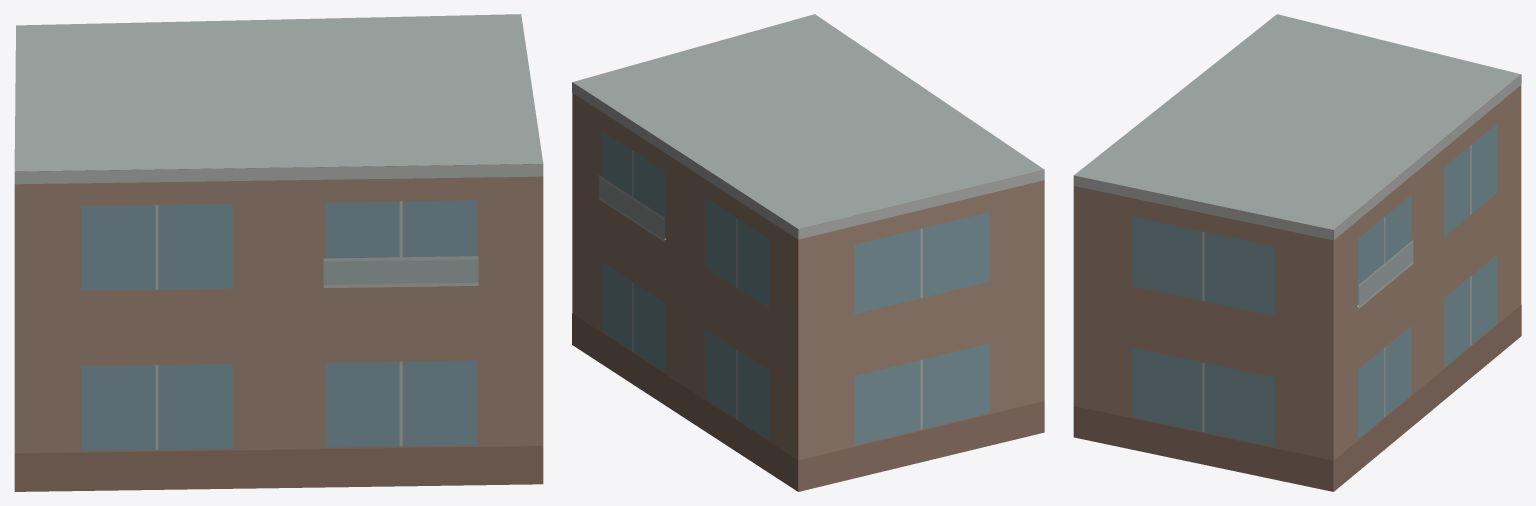
Rendered from survey-upis-32597069.glb.
3 renders of one model, left to right at view 1: azimuth 30°, elevation 25°; view 2: azimuth 150°, elevation 25°; view 3: azimuth 270°, elevation 25°, orthographic. The views are drawn at different scales.
Visible parts, largest first — view 1: survey-upis-32597069.tmp; view 2: survey-upis-32597069.tmp; view 3: survey-upis-32597069.tmp.
Part boxes in pixels (box(x1,y1,x2,y2)): survey-upis-32597069.tmp: box(14, 14, 543, 491); survey-upis-32597069.tmp: box(572, 14, 1044, 491); survey-upis-32597069.tmp: box(1073, 14, 1521, 491).
Bounding box in the file's own units: 10.8 × 6.1 × 9.46.
